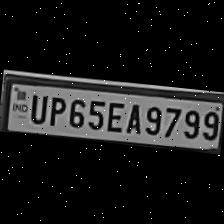5: (85, 96, 107, 132)
6: (64, 94, 86, 128)
7: (160, 102, 182, 140)
9: (198, 106, 221, 142), (140, 102, 164, 136), (179, 106, 202, 140)
A: (122, 100, 145, 136)
E: (103, 98, 126, 134)
P: (45, 92, 67, 128)
U: (24, 90, 48, 124)
